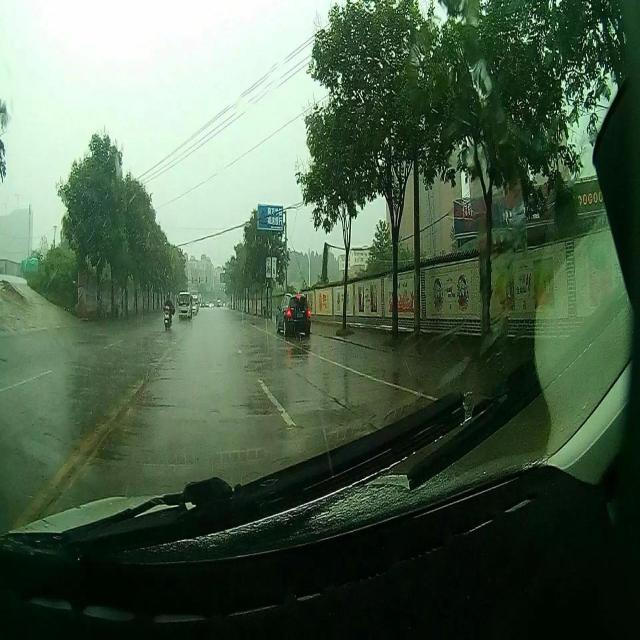car: (276, 290, 312, 336), (178, 290, 192, 318)
